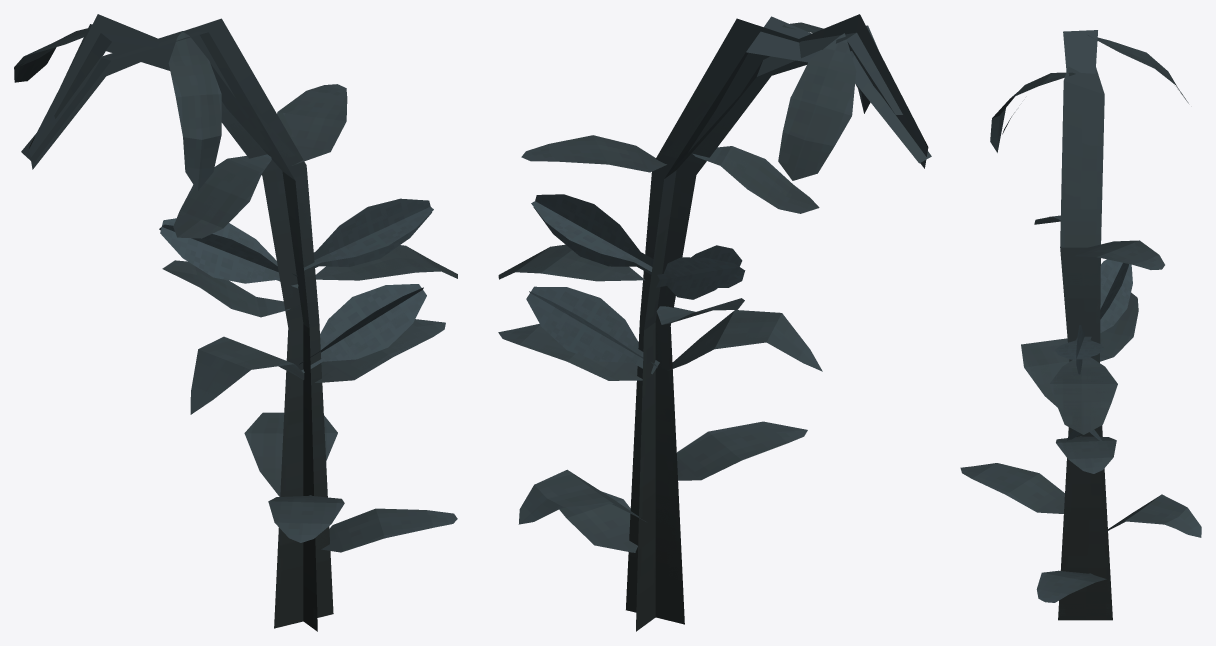
File: Corn_Prefab_1.fbx
The picture shows the model from 3 angles, left to right: view 1: azimuth 30°, elevation 25°; view 2: azimuth 150°, elevation 25°; view 3: azimuth 270°, elevation 25°; orthographic projection. The views are drawn at different scales.
Visible parts, largest first — view 1: corn_prefab_1; view 2: corn_prefab_1; view 3: corn_prefab_1.
Part boxes in pixels (x1,y1,x2,y2): corn_prefab_1: (14,14,457,631); corn_prefab_1: (498,14,931,631); corn_prefab_1: (960,30,1201,620).
Bounding box in the file's own units: 183 × 267 × 111.
Materials: 1 (1 with a texture image).
